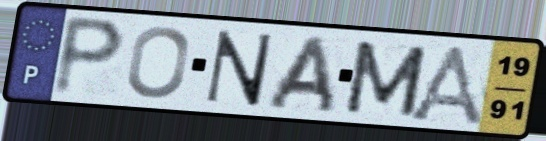A: (403, 42, 489, 129), (262, 33, 339, 116)
M: (341, 38, 431, 120)
N: (201, 27, 277, 108)
O: (124, 24, 192, 101)
P: (49, 13, 129, 99)
